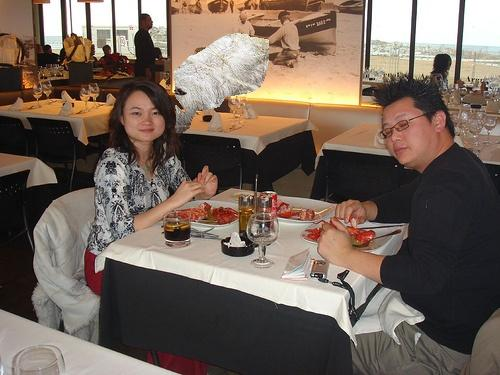tampered: (161, 34, 269, 133)
